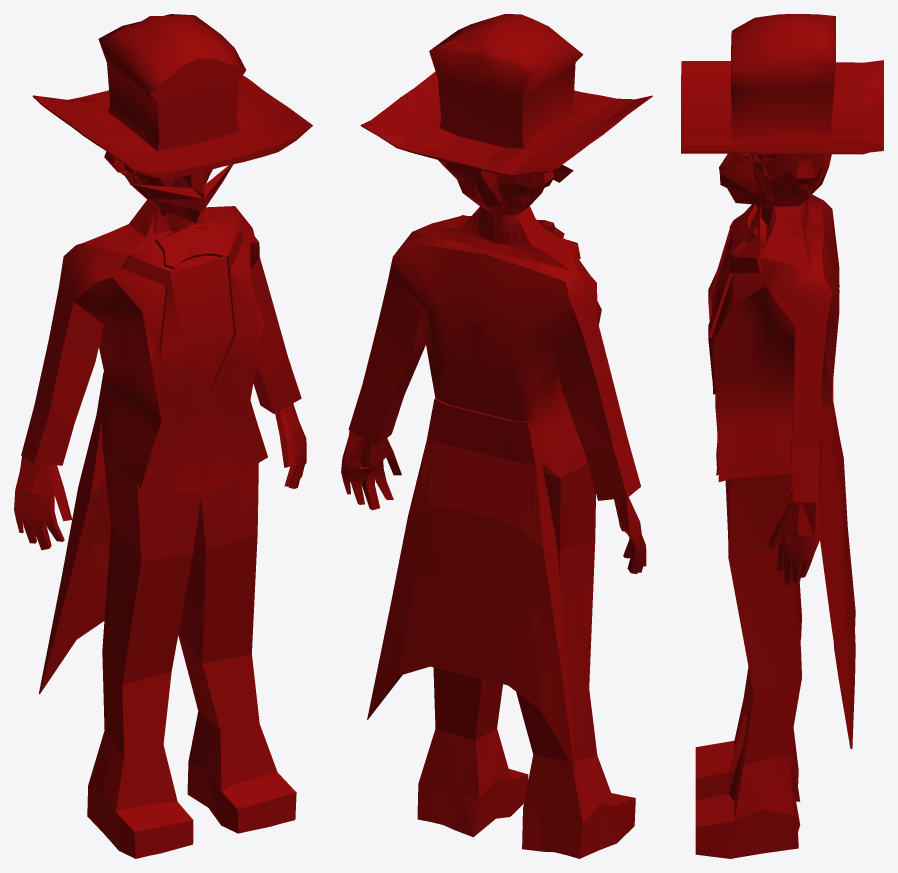
File: Personaje para pintar.fbx
3 views of the same model, side by side, from view 1: azimuth 30°, elevation 25°; view 2: azimuth 150°, elevation 25°; view 3: azimuth 270°, elevation 25° (orthographic). The views are drawn at different scales.
Visible parts, largest first — view 1: Cuerpo; view 2: Cuerpo; view 3: Cuerpo.
Part boxes in pixels (bbox=[...]): Cuerpo: bbox=[14, 14, 312, 858]; Cuerpo: bbox=[341, 14, 652, 858]; Cuerpo: bbox=[681, 14, 883, 858].
Bounding box in the file's own units: 33.84 × 87.24 × 19.99.
